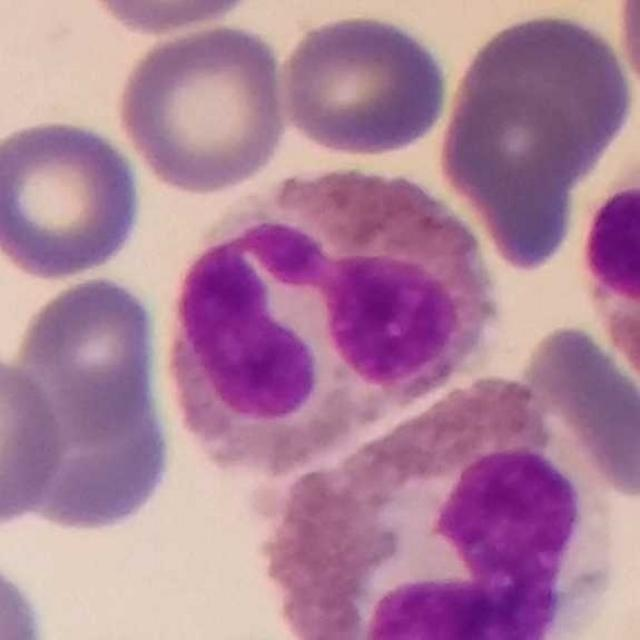Eosinophil: (162, 166, 500, 480), (254, 380, 615, 640), (570, 170, 640, 388)
RBC: (428, 12, 636, 276), (112, 19, 292, 196), (277, 9, 452, 160), (9, 272, 166, 438), (0, 113, 148, 284), (508, 319, 640, 506), (26, 381, 177, 528), (0, 348, 68, 534), (73, 0, 270, 37), (0, 548, 51, 640), (612, 0, 640, 108)
